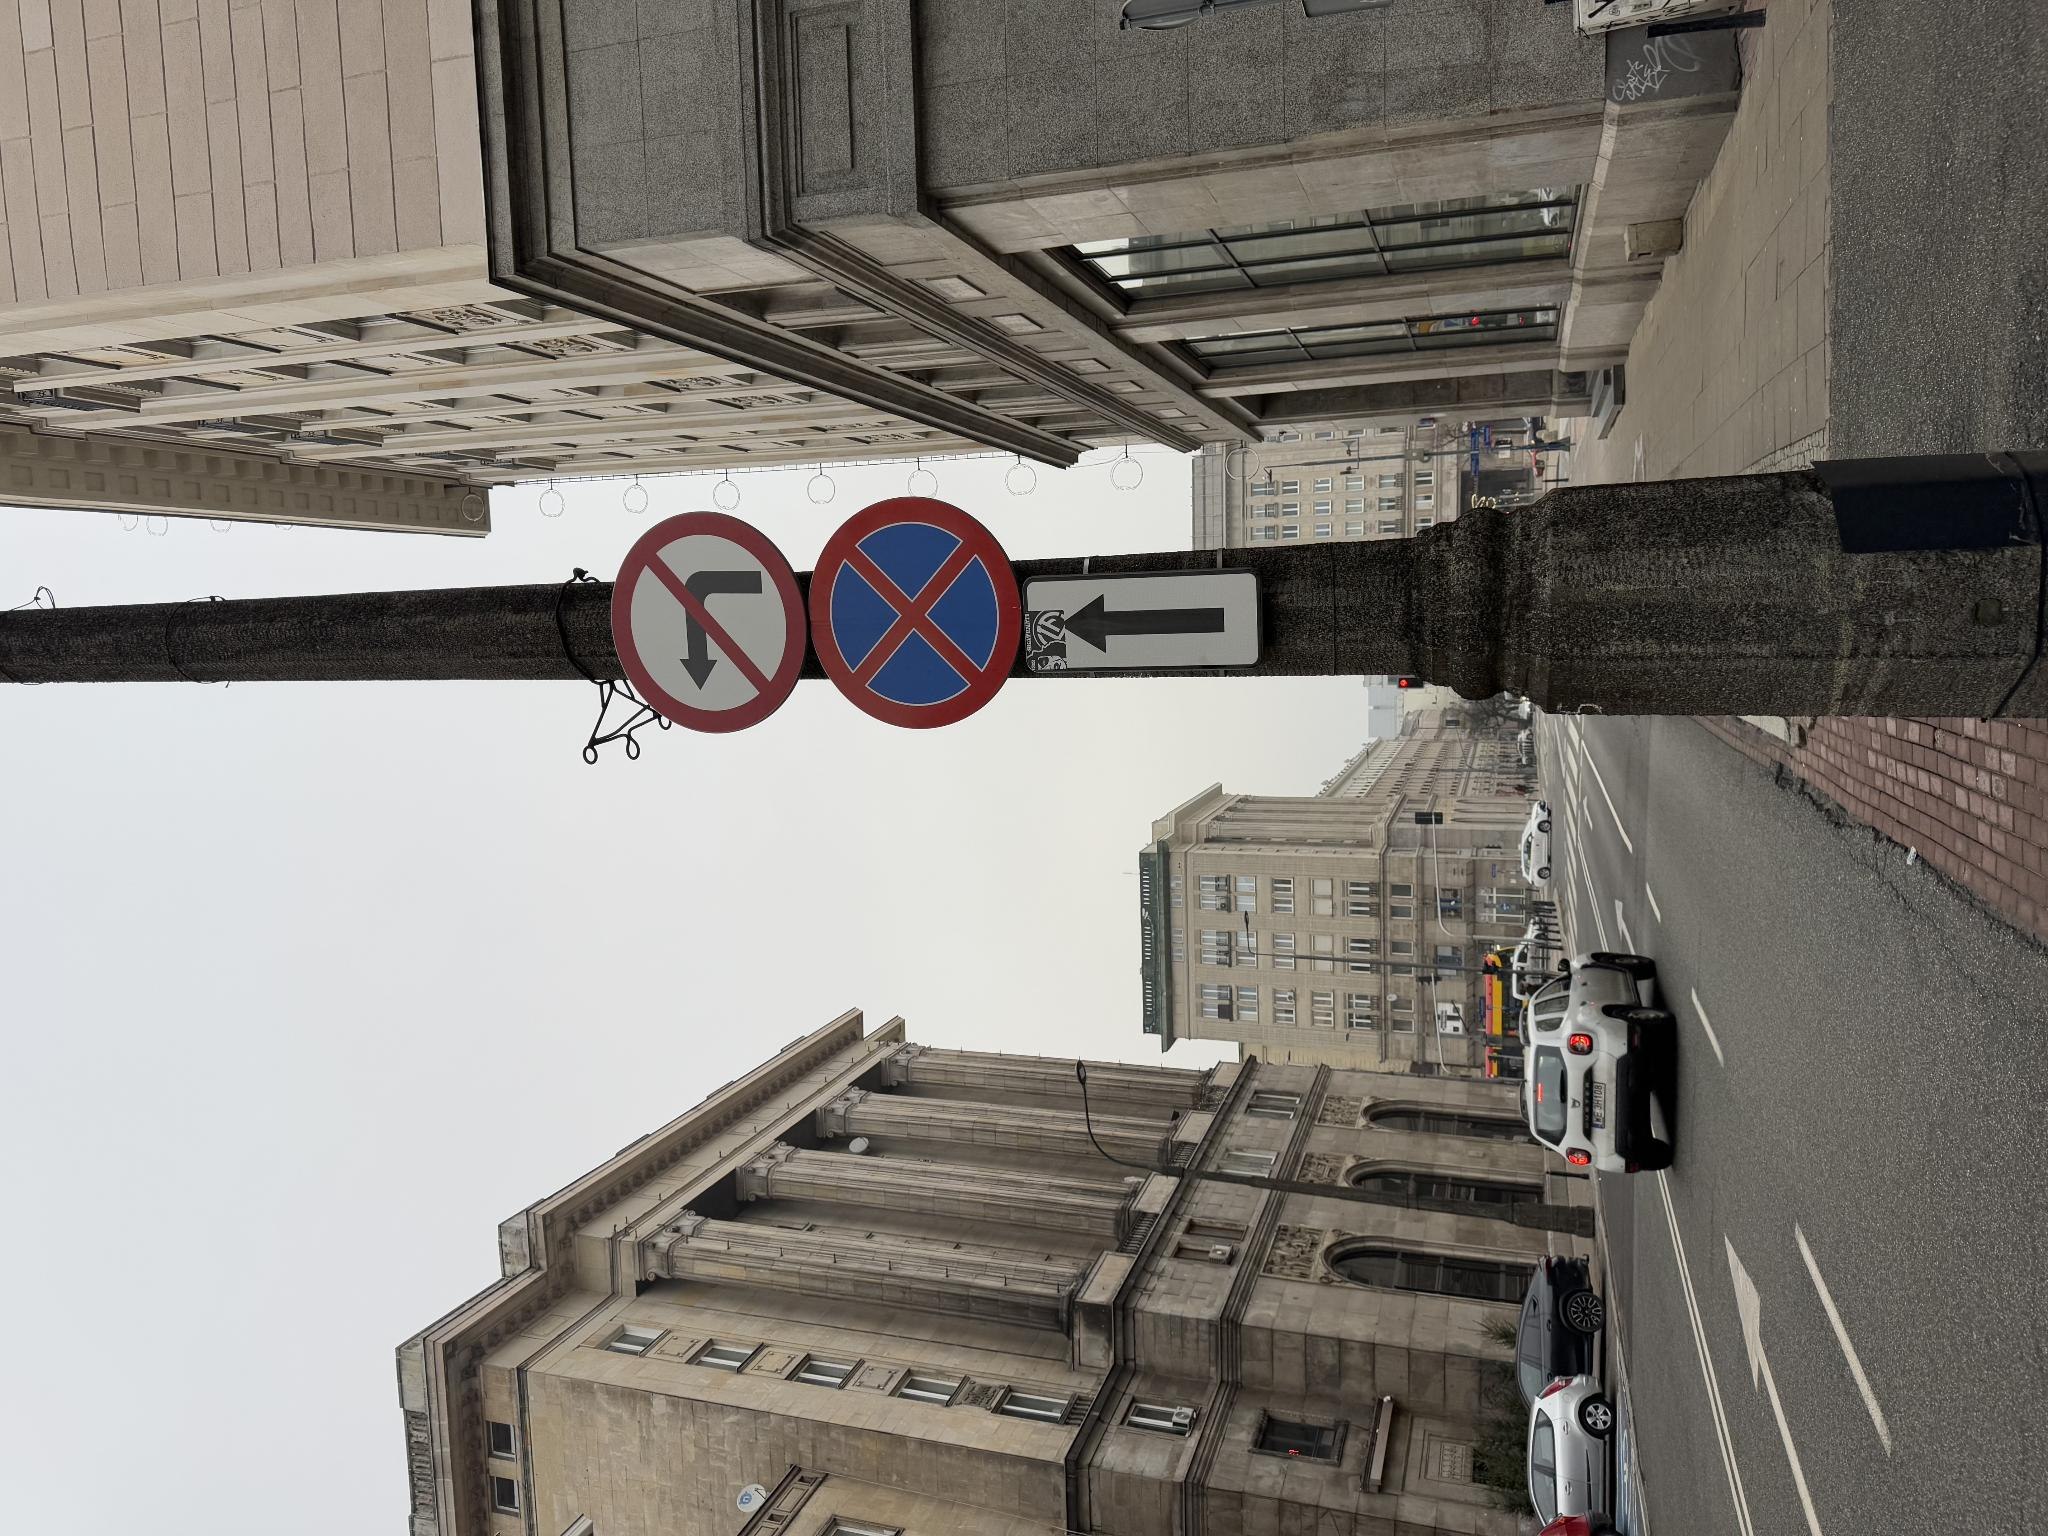mandatory: (626, 1502, 632, 1509)
other: (863, 1028, 966, 1258)
prohibitory: (803, 807, 1042, 1023), (800, 608, 1026, 810), (458, 1486, 461, 1497)
